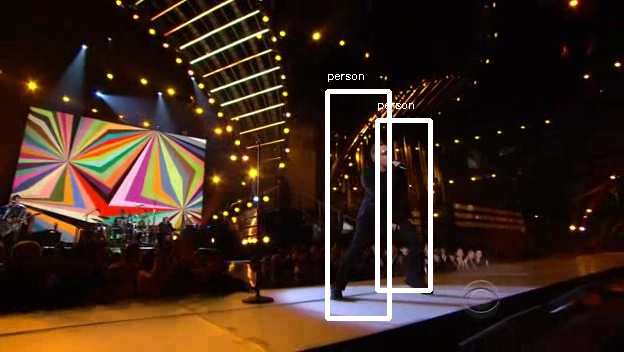person: (354, 146, 413, 248), (351, 146, 410, 248), (357, 146, 416, 248), (354, 143, 413, 245), (354, 149, 413, 251)
target_negative: (22, 36, 167, 159), (29, 118, 126, 287), (439, 207, 601, 254), (172, 120, 190, 344), (249, 131, 283, 160), (265, 348, 387, 350)
